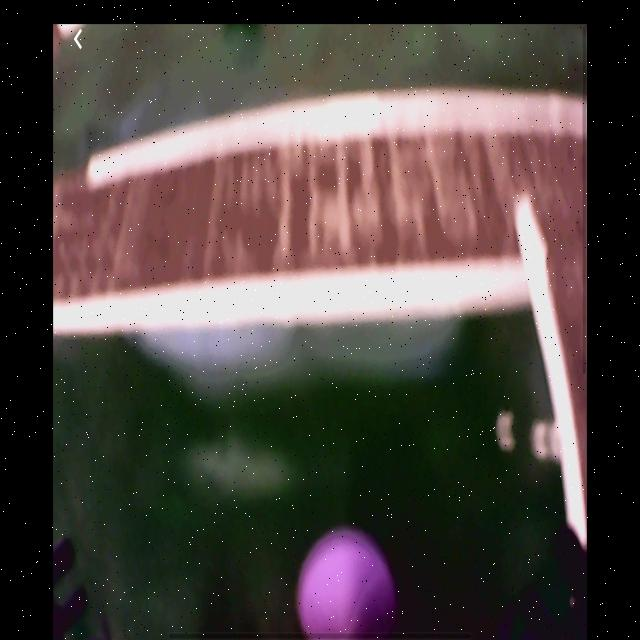ball: (296, 528, 399, 635)
